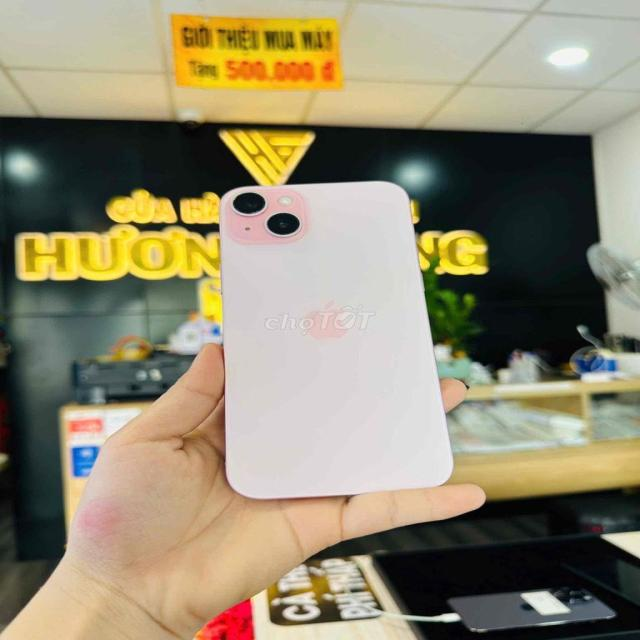gen_15: (207, 179, 461, 501)
